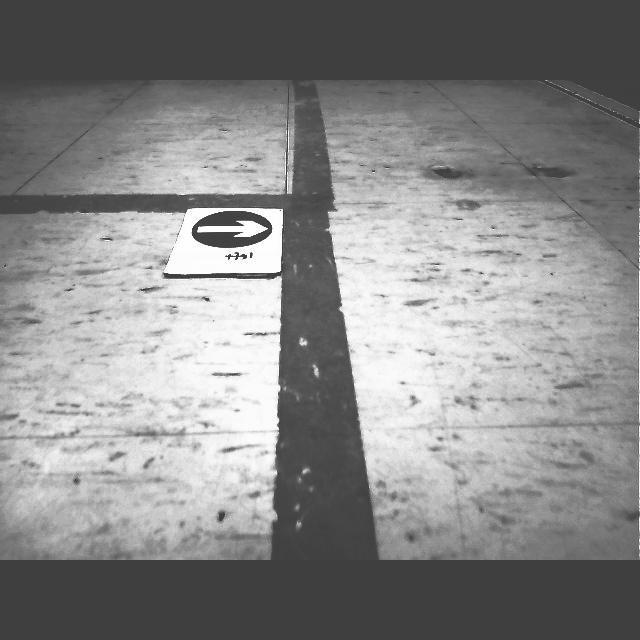TURN RIGHT: (188, 210, 273, 248)
